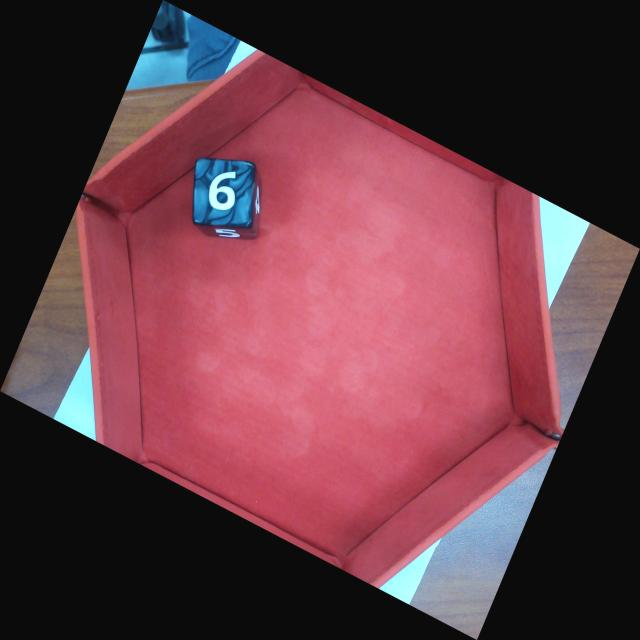dice: (198, 164, 251, 223)
